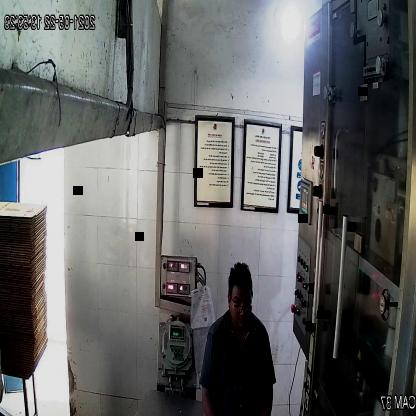goggles: (228, 294, 256, 321)
